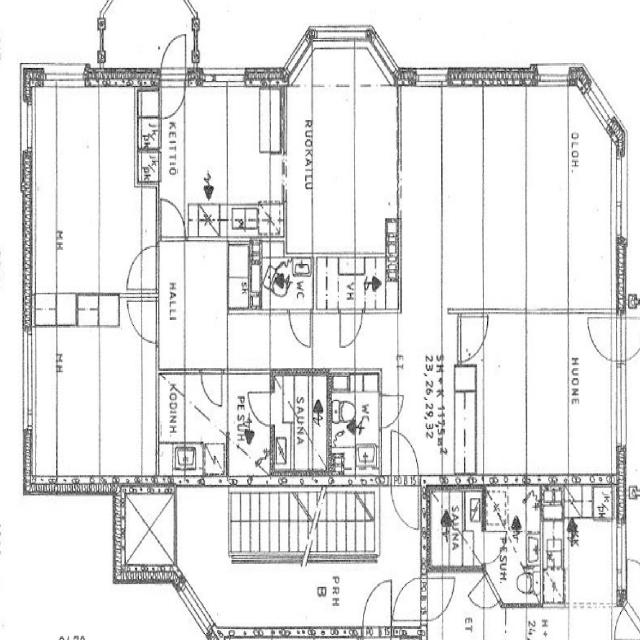door: (589, 317, 626, 361), (391, 433, 418, 486), (161, 29, 186, 86), (161, 68, 186, 125), (391, 476, 418, 528), (128, 247, 159, 289), (129, 302, 159, 344), (616, 317, 640, 361), (161, 198, 185, 241), (248, 392, 275, 426), (340, 308, 362, 348), (290, 308, 310, 346), (201, 368, 221, 406), (379, 396, 402, 428)
